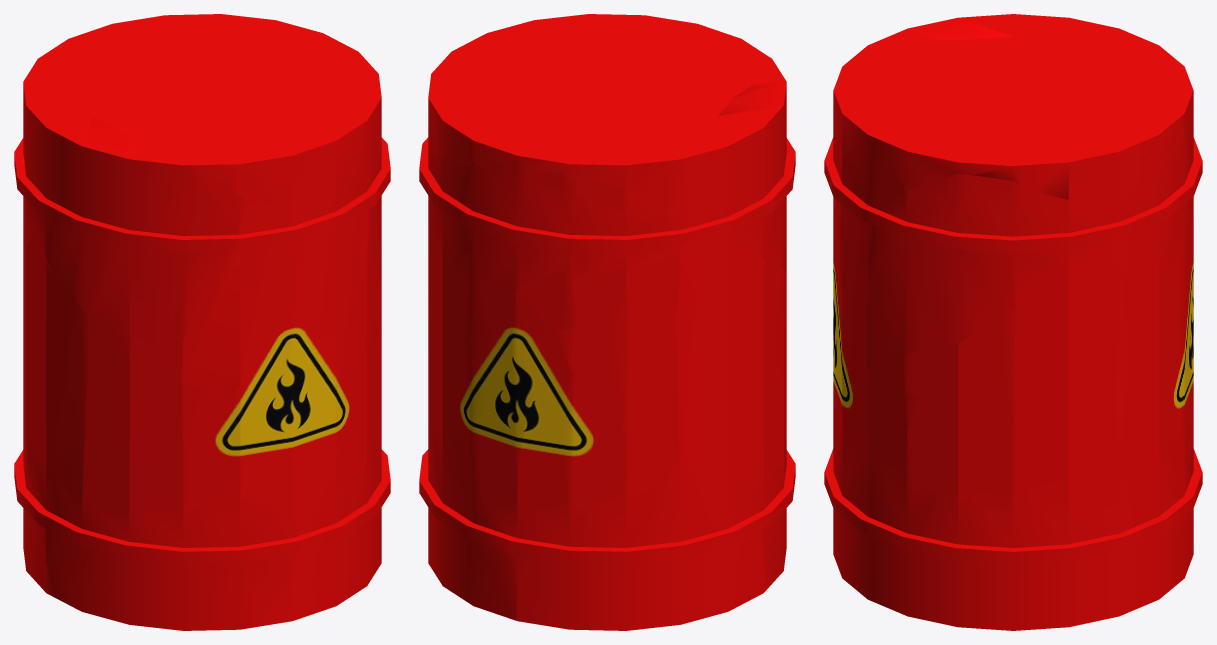
Rendered from breakable_drum.fbx.
The picture shows the model from 3 angles, left to right: view 1: azimuth 30°, elevation 25°; view 2: azimuth 150°, elevation 25°; view 3: azimuth 270°, elevation 25°; orthographic projection.
Visible parts, largest first — view 1: shard14, shard9, shard18, shard15, shard10, shard1, shard8, shard4, shard20, shard5, shard16, shard6 (+2 smaller); view 2: shard3, shard9, shard15, shard2, shard19, shard14, shard7, shard8, shard20, shard16, shard18, shard13 (+2 smaller); view 3: shard8, shard9, shard6, shard12, shard20, shard19, shard17, shard2, shard10, shard5, shard14, shard7 (+2 smaller).
Boxes of the visible parts, x1=… form: shard14: x1=15, y1=88, x2=249, y2=372; shard9: x1=23, y1=15, x2=357, y2=247; shard18: x1=26, y1=434, x2=304, y2=630; shard15: x1=23, y1=236, x2=179, y2=511; shard10: x1=230, y1=87, x2=379, y2=413; shard1: x1=163, y1=203, x2=320, y2=398; shard8: x1=265, y1=419, x2=390, y2=625; shard4: x1=150, y1=377, x2=349, y2=508; shard20: x1=179, y1=14, x2=381, y2=169; shard5: x1=249, y1=340, x2=381, y2=477; shard16: x1=207, y1=461, x2=324, y2=515; shard6: x1=356, y1=137, x2=390, y2=368; shard3: x1=487, y1=459, x2=770, y2=630; shard9: x1=466, y1=14, x2=763, y2=201; shard15: x1=551, y1=267, x2=786, y2=479; shard2: x1=419, y1=152, x2=715, y2=290; shard19: x1=428, y1=322, x2=672, y2=464; shard14: x1=642, y1=53, x2=795, y2=279; shard7: x1=453, y1=230, x2=775, y2=340; shard8: x1=419, y1=418, x2=515, y2=620; shard20: x1=428, y1=17, x2=557, y2=166; shard16: x1=480, y1=455, x2=679, y2=510; shard18: x1=724, y1=437, x2=795, y2=585; shard13: x1=493, y1=333, x2=631, y2=439; shard8: x1=825, y1=423, x2=1198, y2=630; shard9: x1=825, y1=23, x2=1193, y2=205; shard6: x1=859, y1=174, x2=1119, y2=368; shard12: x1=868, y1=269, x2=1171, y2=405; shard20: x1=881, y1=117, x2=1184, y2=210; shard19: x1=1030, y1=294, x2=1193, y2=477; shard17: x1=872, y1=399, x2=1058, y2=491; shard2: x1=1056, y1=104, x2=1202, y2=281; shard10: x1=831, y1=126, x2=970, y2=368; shard5: x1=833, y1=368, x2=950, y2=452; shard14: x1=861, y1=14, x2=1095, y2=50; shard7: x1=1167, y1=224, x2=1193, y2=322.
Bounding box in the file's own units: 35.47 × 48.12 × 35.47.
Materials: 2 (1 with a texture image).
